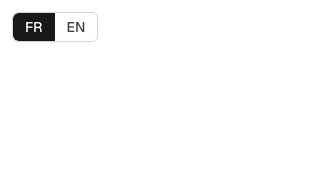
Test: locale choice › switches language from the FR / EN buttons and remembers it
Click the button "EN".
click(76, 27)  # box [55,13,97,41]
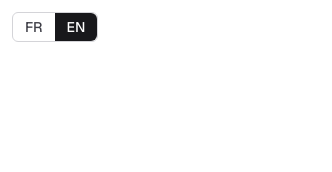
Now the button "EN" is pressed, box [55,13,97,41]
